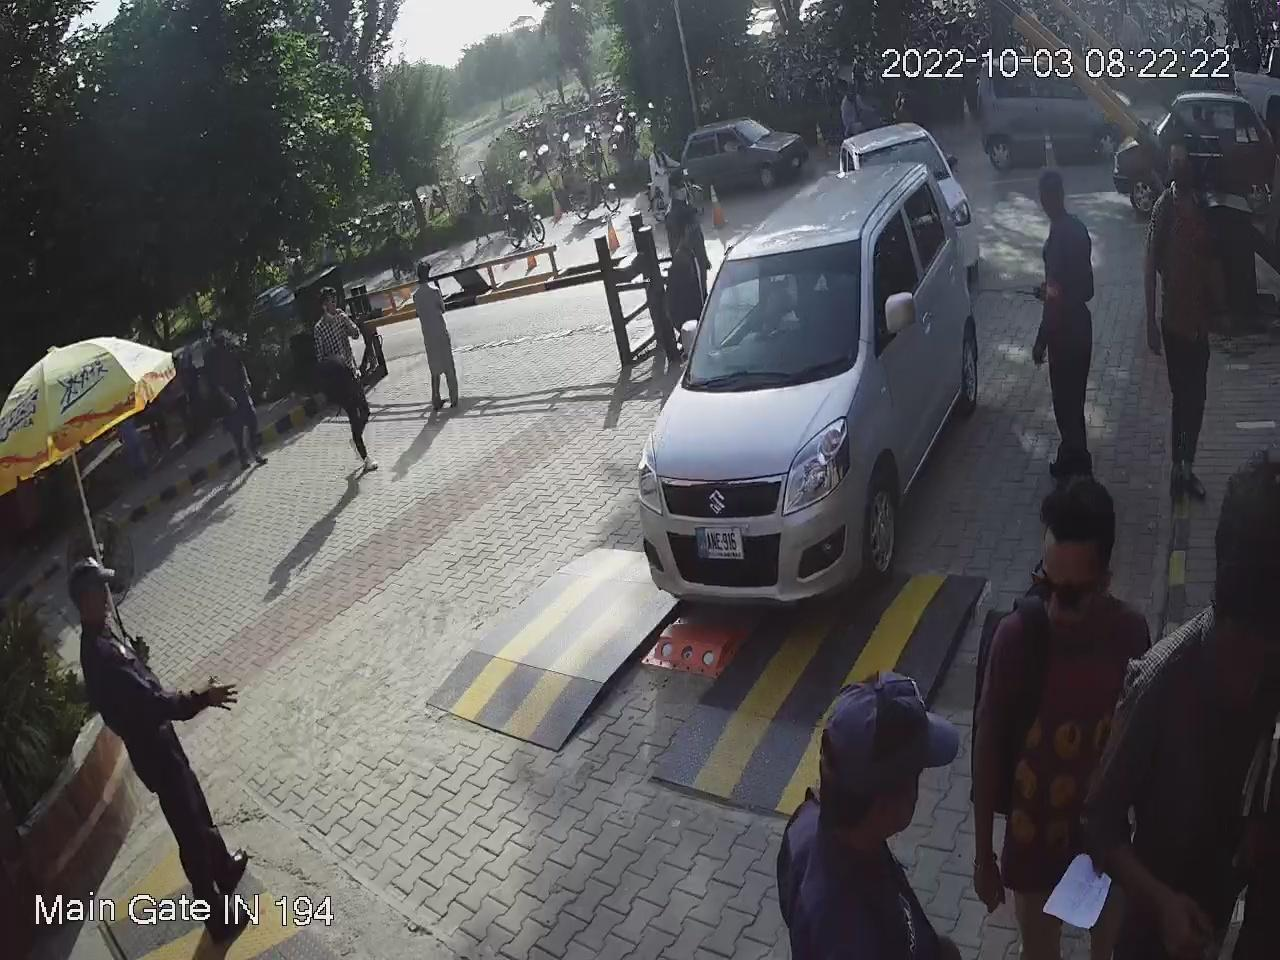windshield: (675, 225, 873, 390)
